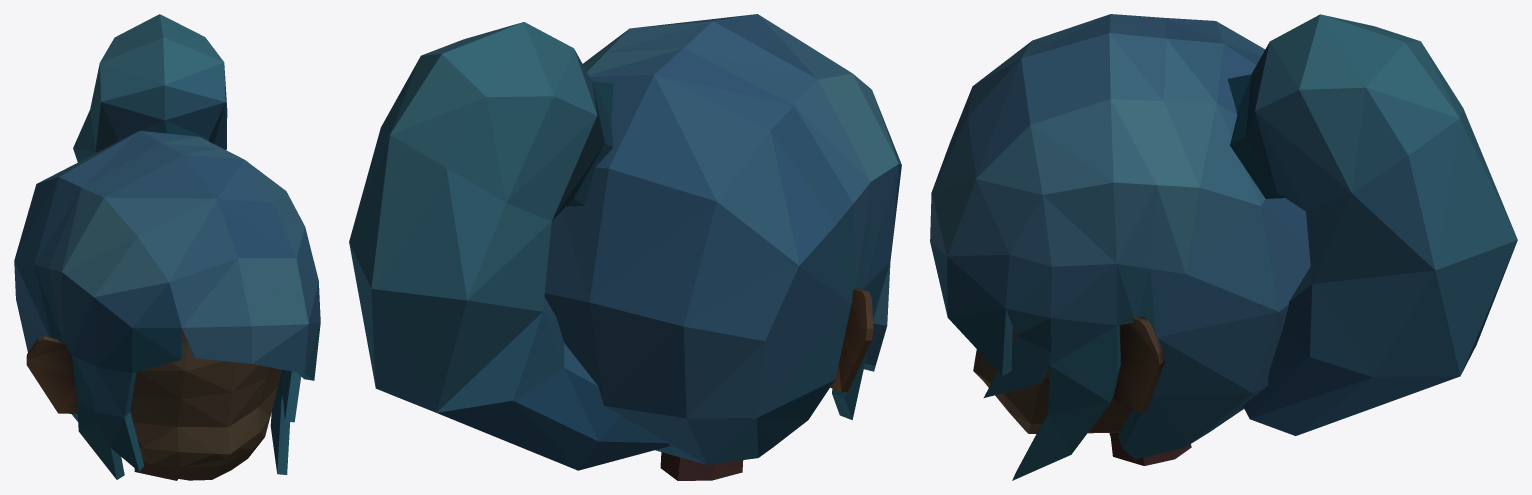
Rendered from helm_darkskin_ponytail_blue.fbx.
3 views of the same model, side by side, from view 1: azimuth 30°, elevation 25°; view 2: azimuth 150°, elevation 25°; view 3: azimuth 270°, elevation 25° (orthographic). The views are drawn at different scales.
Visible parts, largest first — view 1: helm_darkskin_ponytail_blue; view 2: helm_darkskin_ponytail_blue; view 3: helm_darkskin_ponytail_blue.
Boxes of the visible parts, left/top/right/bottom form: helm_darkskin_ponytail_blue: left=14, top=14, right=320, bottom=480; helm_darkskin_ponytail_blue: left=349, top=14, right=901, bottom=480; helm_darkskin_ponytail_blue: left=930, top=14, right=1517, bottom=480.
Size of the model in its own units: 1.21 by 1.49 by 1.64.
